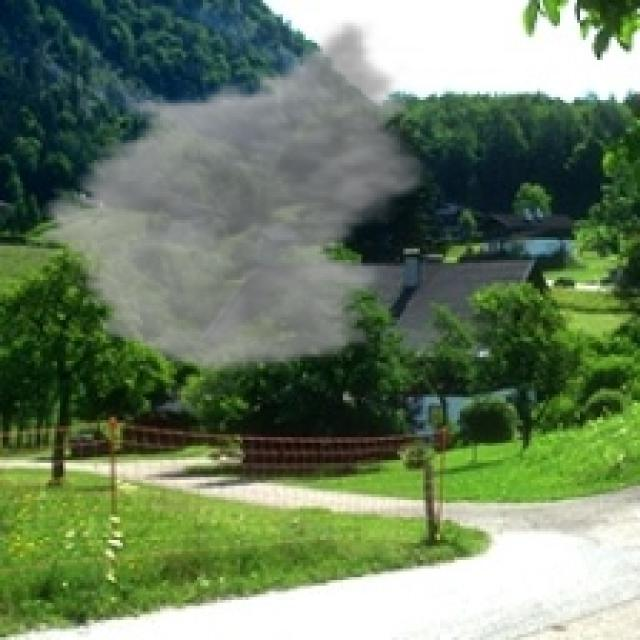smoke: (29, 17, 437, 377)
